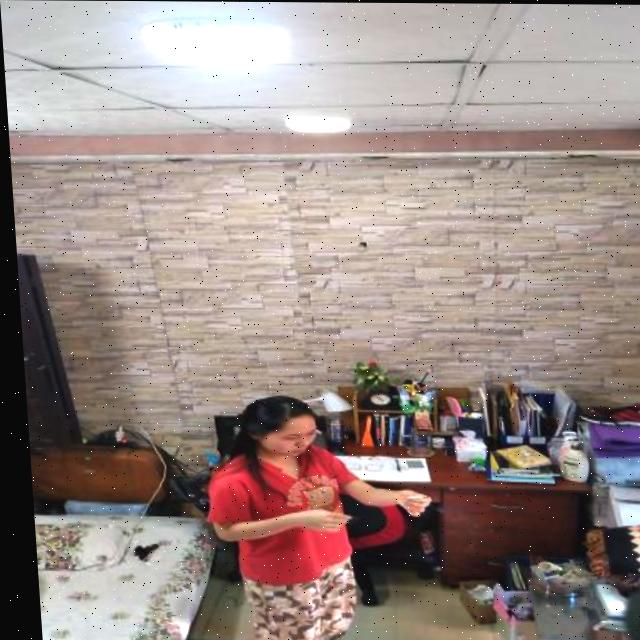cigarette: (386, 495, 422, 499)
